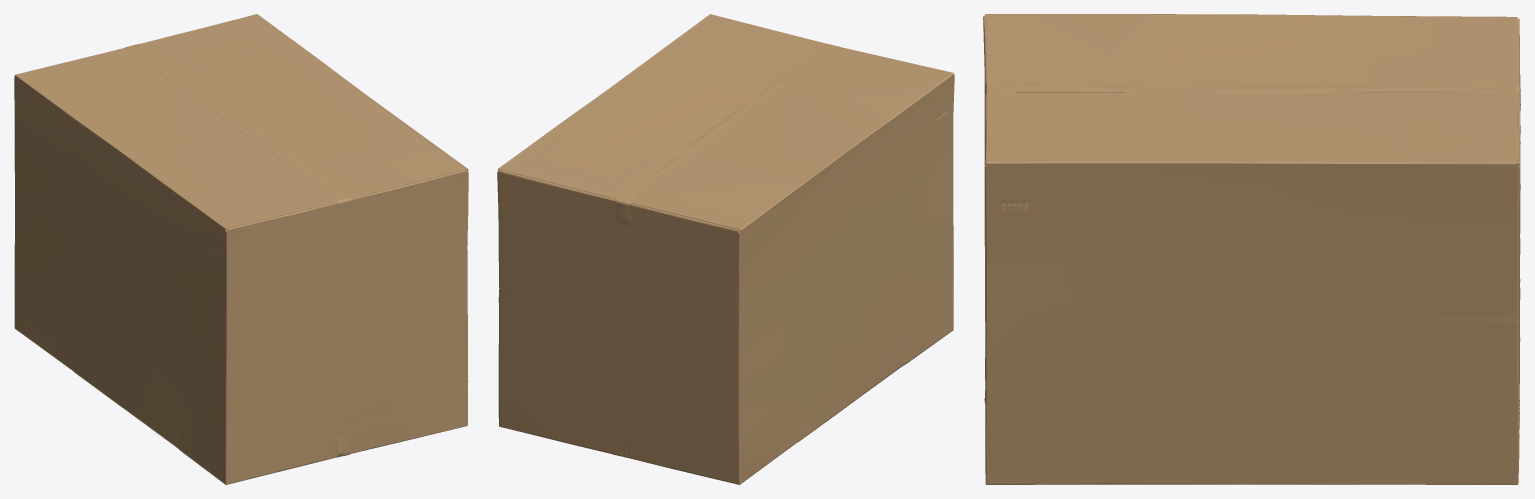
The model's file is box_corrugated_brown_b35.glb.
3 renders of one model, left to right at view 1: azimuth 30°, elevation 25°; view 2: azimuth 150°, elevation 25°; view 3: azimuth 270°, elevation 25°, orthographic. The views are drawn at different scales.
Size of the model in its own units: 0.2007 by 0.2028 by 0.3046.
